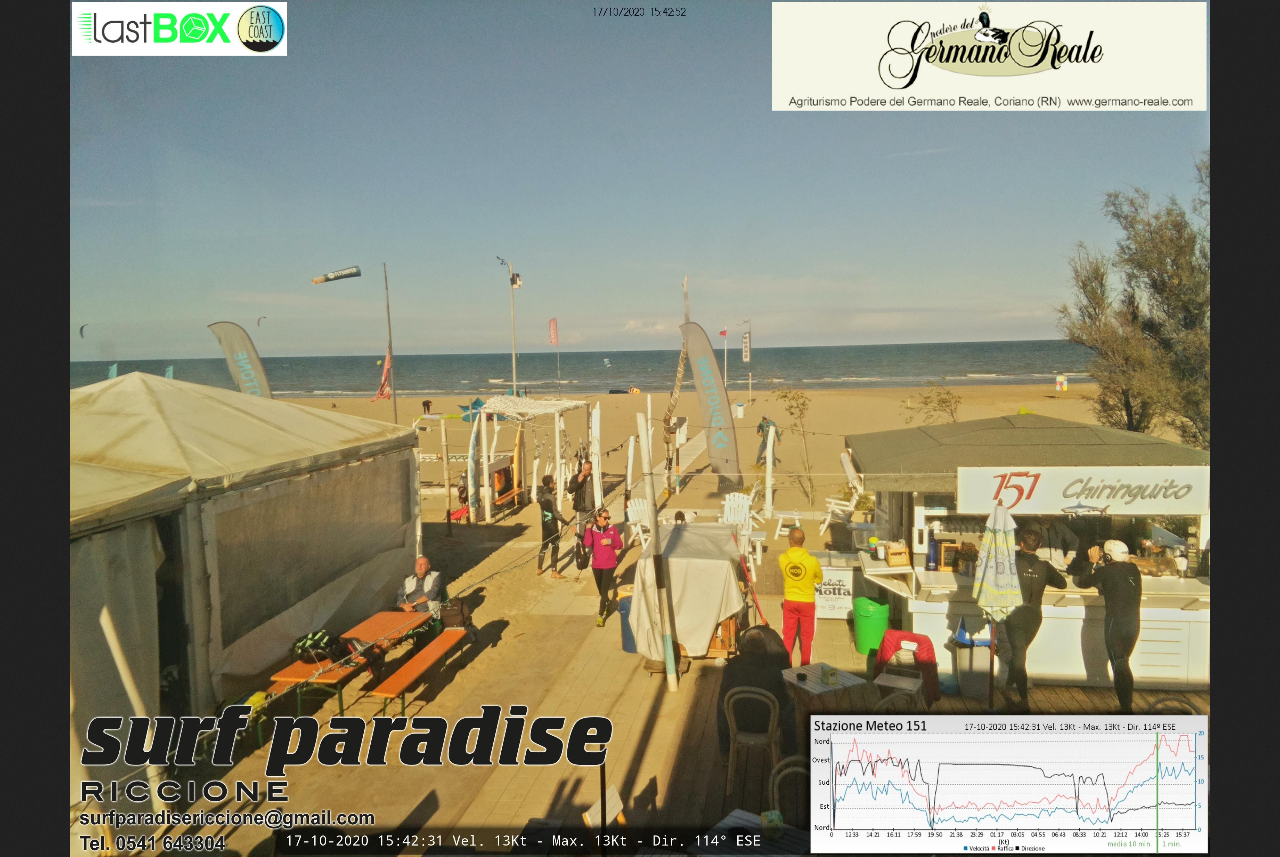yes: (717, 327, 730, 339)
